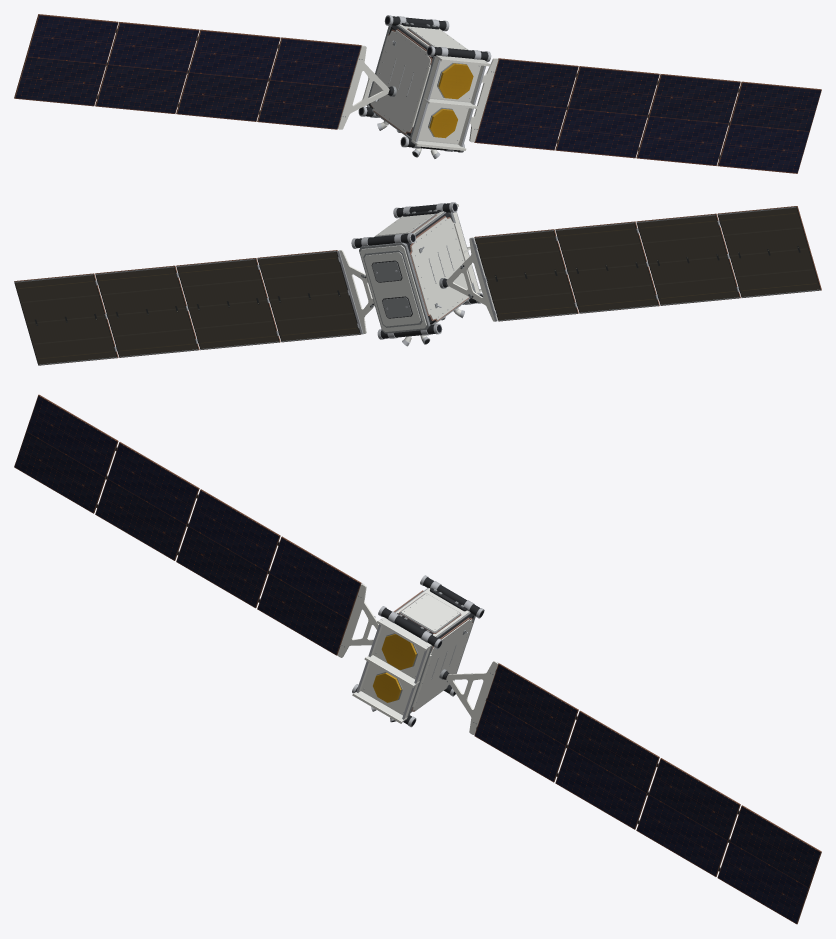
Rendered from o3b_mpower.glb.
The picture shows the model from 3 angles, top to bottom: view 1: azimuth 30°, elevation 25°; view 2: azimuth 150°, elevation 25°; view 3: azimuth 330°, elevation 25°; orthographic projection.
Parts seen in each view (by area): view 1: Hinged photovoltaic panel - Indigo cells with copper conduct (×8), Port radiator and access panel - White thermal-control surfa, Hinged photovoltaic panel - Copper laminate solar edges (×8), White spacecraft bus and end decks - Warm white yokes and ra, Pierced triangular solar-array yoke - Warm white yokes and r (×2), Corner tubes with dark sleeves and machined end collars - Gr, Large octagonal phased-array aperture - Gold patterned apert, Opposite equipment side - White thermal-control surfaces, White spacecraft bus and end decks - White thermal-control s, Corner tubes with dark sleeves and machined end collars - Ma, Small octagonal phased-array aperture - Gold patterned apert, White spacecraft bus and end decks - Machined aluminium fitt (+1 smaller); view 2: Hinged photovoltaic panel - Reverse solar panel and wiring (×8), Port radiator and access panel - White thermal-control surfa, Pierced triangular solar-array yoke - Warm white yokes and r (×2), Aft thermal panel and service covers - White thermal-control, Aft thermal panel and service covers - Brushed equipment hou, Corner tubes with dark sleeves and machined end collars - Gr, White spacecraft bus and end decks - White thermal-control s, White spacecraft bus and end decks - Brushed equipment housi, Opposite equipment side - White thermal-control surfaces, Corner tubes with dark sleeves and machined end collars - Ma, White spacecraft bus and end decks - Warm white yokes and ra; view 3: Hinged photovoltaic panel - Indigo cells with copper conduct (×8), Pierced triangular solar-array yoke - Warm white yokes and r (×2), White spacecraft bus and end decks - Warm white yokes and ra, Starboard radiator and access panel - White thermal-control , Opposite equipment side - White thermal-control surfaces, White spacecraft bus and end decks - White thermal-control s, Corner tubes with dark sleeves and machined end collars - Gr.
Boxes of the visible parts, bbox=[...] form: Hinged photovoltaic panel - Indigo cells with copper conduct (×8): bbox=[15, 15, 821, 173]; Port radiator and access panel - White thermal-control surfa: bbox=[370, 30, 430, 133]; Hinged photovoltaic panel - Copper laminate solar edges (×8): bbox=[14, 14, 821, 173]; White spacecraft bus and end decks - Warm white yokes and ra: bbox=[412, 57, 490, 150]; Pierced triangular solar-array yoke - Warm white yokes and r (×2): bbox=[338, 45, 498, 142]; Corner tubes with dark sleeves and machined end collars - Gr: bbox=[359, 16, 488, 151]; Large octagonal phased-array aperture - Gold patterned apert: bbox=[440, 64, 473, 98]; Opposite equipment side - White thermal-control surfaces: bbox=[398, 24, 467, 49]; White spacecraft bus and end decks - White thermal-control s: bbox=[411, 55, 488, 148]; Corner tubes with dark sleeves and machined end collars - Ma: bbox=[358, 15, 491, 152]; Small octagonal phased-array aperture - Gold patterned apert: bbox=[431, 110, 457, 137]; White spacecraft bus and end decks - Machined aluminium fitt: bbox=[415, 57, 486, 146]; Hinged photovoltaic panel - Reverse solar panel and wiring (×8): bbox=[15, 207, 819, 364]; Port radiator and access panel - White thermal-control surfa: bbox=[411, 217, 471, 320]; Pierced triangular solar-array yoke - Warm white yokes and r (×2): bbox=[338, 237, 497, 334]; Aft thermal panel and service covers - White thermal-control: bbox=[364, 252, 420, 326]; Aft thermal panel and service covers - Brushed equipment hou: bbox=[363, 250, 422, 327]; Corner tubes with dark sleeves and machined end collars - Gr: bbox=[354, 203, 483, 338]; White spacecraft bus and end decks - White thermal-control s: bbox=[360, 204, 481, 331]; White spacecraft bus and end decks - Brushed equipment housi: bbox=[359, 212, 475, 333]; Opposite equipment side - White thermal-control surfaces: bbox=[374, 211, 444, 236]; Corner tubes with dark sleeves and machined end collars - Ma: bbox=[351, 202, 482, 339]; White spacecraft bus and end decks - Warm white yokes and ra: bbox=[453, 204, 480, 293]; Hinged photovoltaic panel - Indigo cells with copper conduct (×8): bbox=[14, 396, 820, 923]; Pierced triangular solar-array yoke - Warm white yokes and r (×2): bbox=[337, 584, 498, 734]; White spacecraft bus and end decks - Warm white yokes and ra: bbox=[352, 620, 430, 723]; Starboard radiator and access panel - White thermal-control : bbox=[412, 619, 472, 711]; Opposite equipment side - White thermal-control surfaces: bbox=[396, 588, 469, 636]; White spacecraft bus and end decks - White thermal-control s: bbox=[354, 617, 431, 722]; Corner tubes with dark sleeves and machined end collars - Gr: bbox=[355, 577, 483, 726].
Size of the model in its own units: 26.48 by 10.8 by 3.12.
12 materials, 3 textured.
